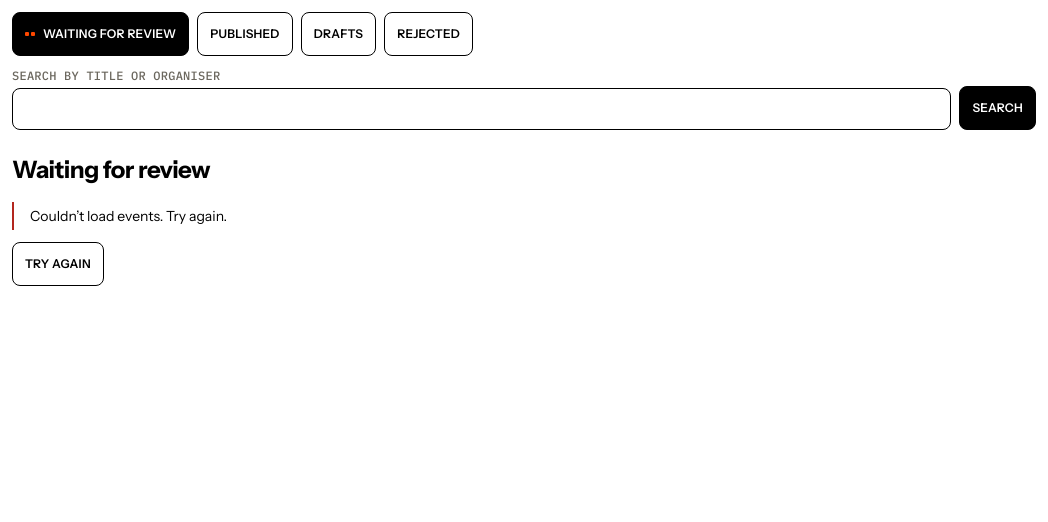
EventQueue › a failed load says so in plain words and can be tried again
Expected: the message reads "Couldn’t load events. Try again.", [30, 207, 227, 225]
Click the button "Try again" at (58, 264), box [12, 242, 104, 286]
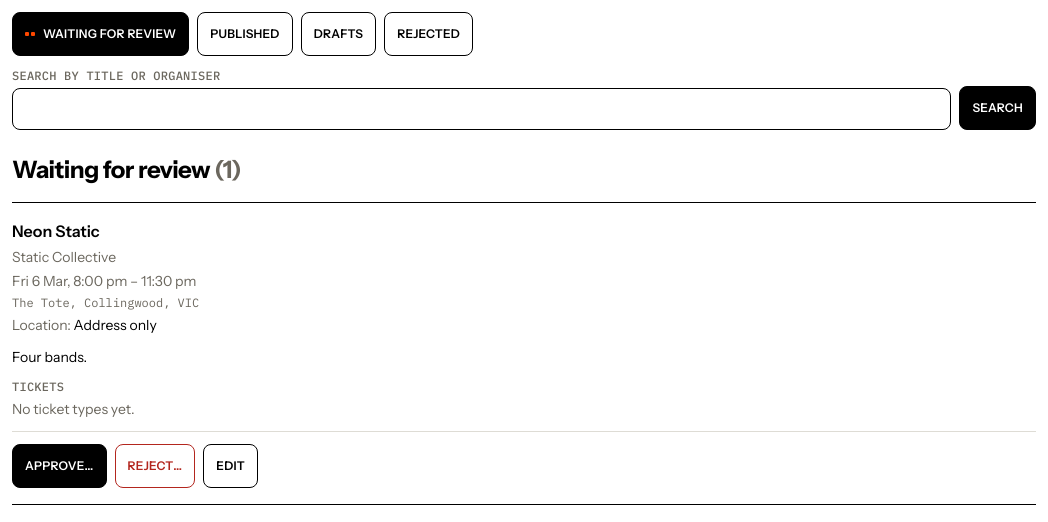
Now the heading "Neon Static" is shown, box [12, 221, 100, 241]
